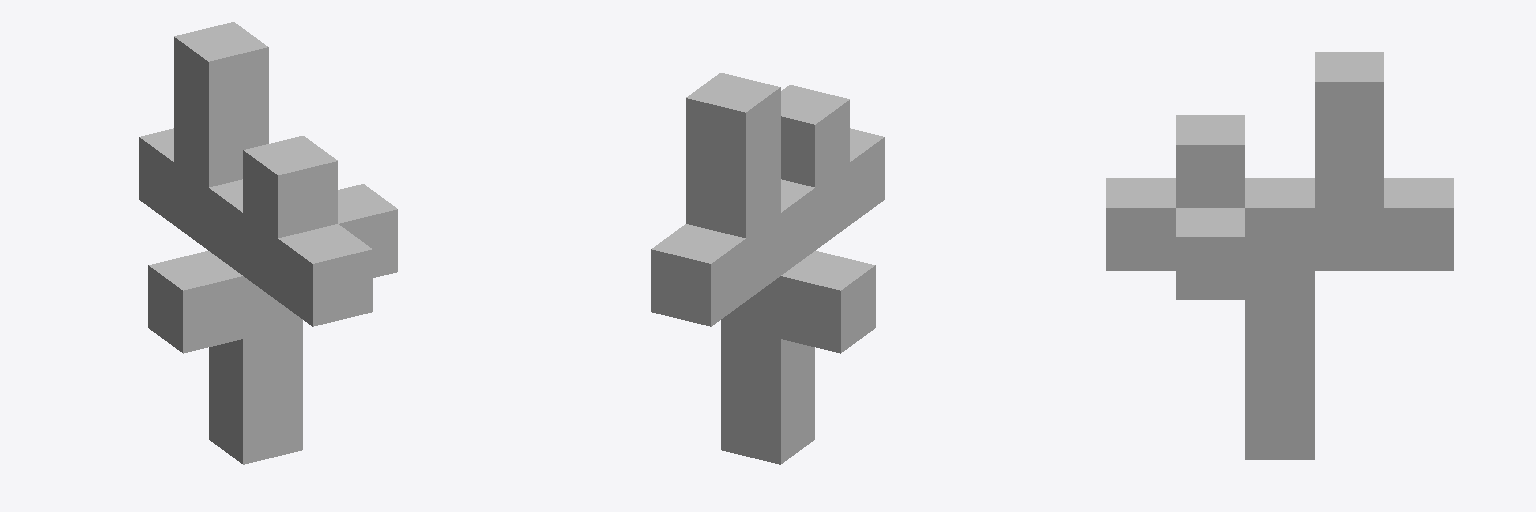
The model's file is Sprout.obj.
3 views of the same model, side by side, from view 1: azimuth 30°, elevation 25°; view 2: azimuth 150°, elevation 25°; view 3: azimuth 270°, elevation 25° (orthographic).
Visible parts, largest first — view 1: object 1; view 2: object 1; view 3: object 1.
Boxes of the visible parts, x1=… form: object 1: x1=139, y1=22, x2=397, y2=464; object 1: x1=651, y1=73, x2=884, y2=464; object 1: x1=1106, y1=52, x2=1453, y2=459.
Size of the model in its own units: 0.3 by 0.6 by 0.5.